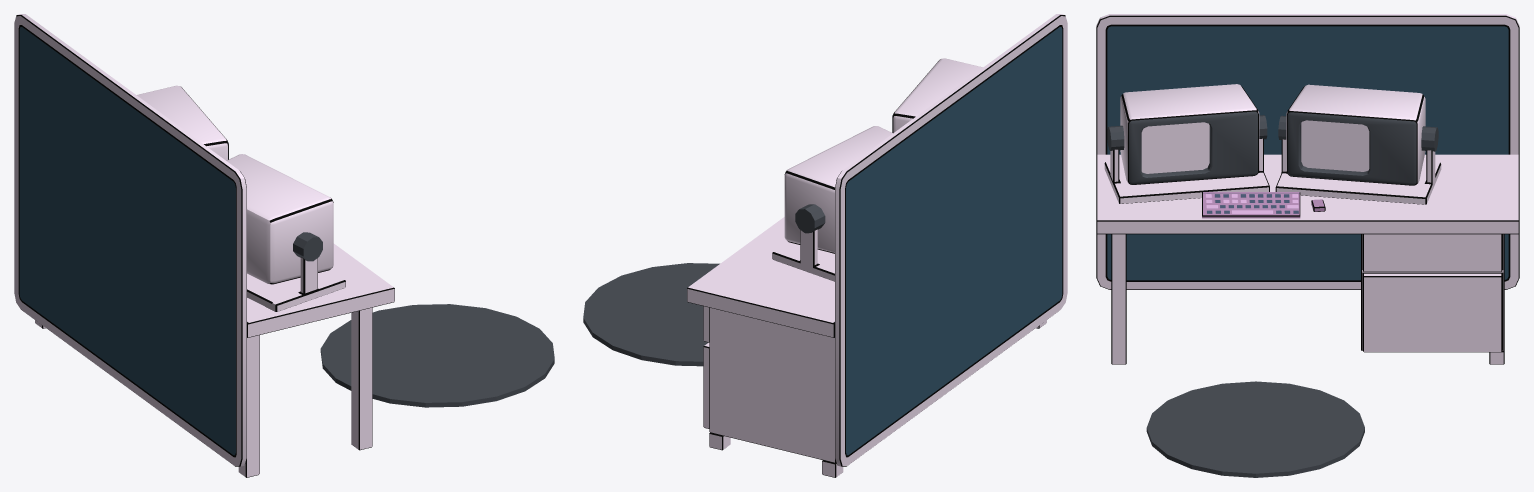
The model's file is DeskDouble.fbx.
3 renders of one model, left to right at view 1: azimuth 30°, elevation 25°; view 2: azimuth 150°, elevation 25°; view 3: azimuth 270°, elevation 25°, orthographic. The views are drawn at different scales.
Visible parts, largest first — view 1: Desk Double; view 2: Desk Double; view 3: Desk Double.
Boxes of the visible parts, x1=… form: Desk Double: x1=14, y1=14, x2=554, y2=477; Desk Double: x1=583, y1=14, x2=1067, y2=477; Desk Double: x1=1096, y1=14, x2=1519, y2=477.
Size of the model in its own units: 5.44 by 4.24 by 5.6.
